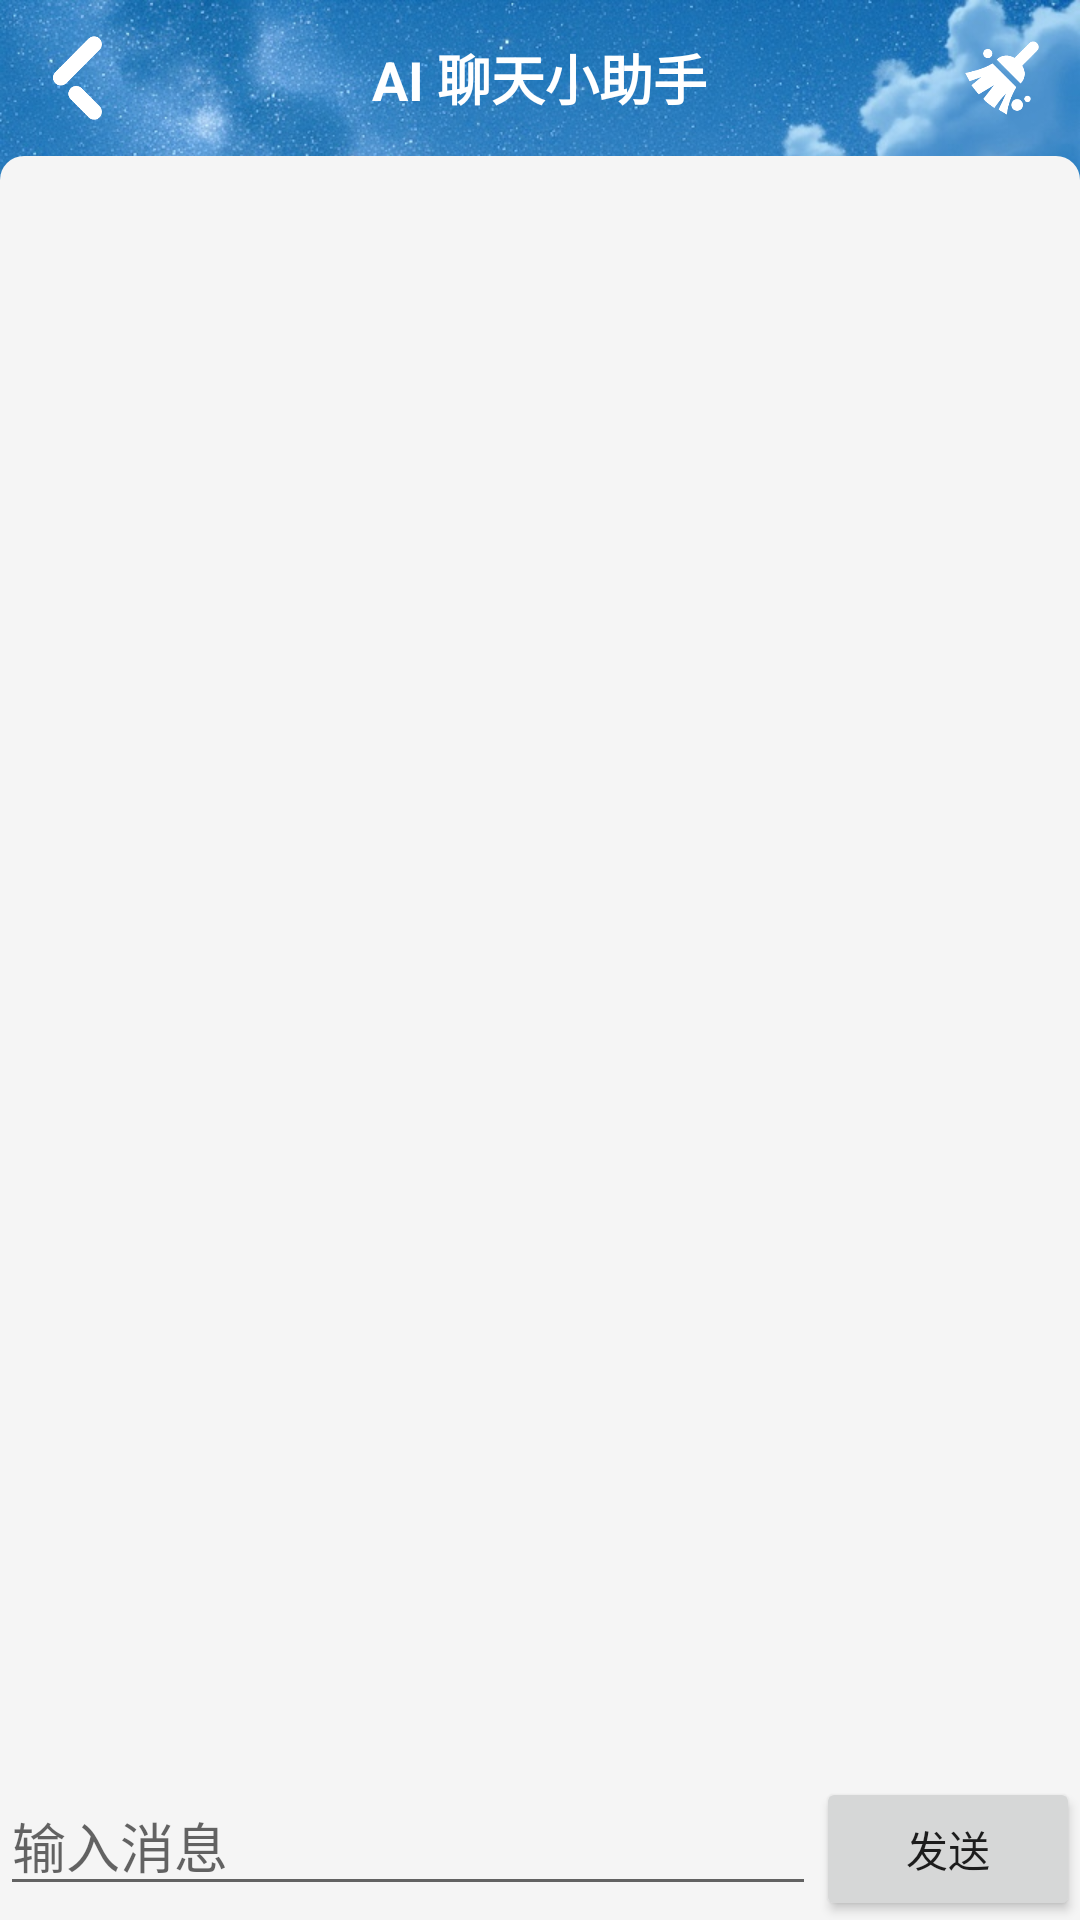

Point at icon controls on the screen. Image size 1080x1920, points as point (x, y).
goback: point (78, 78)
